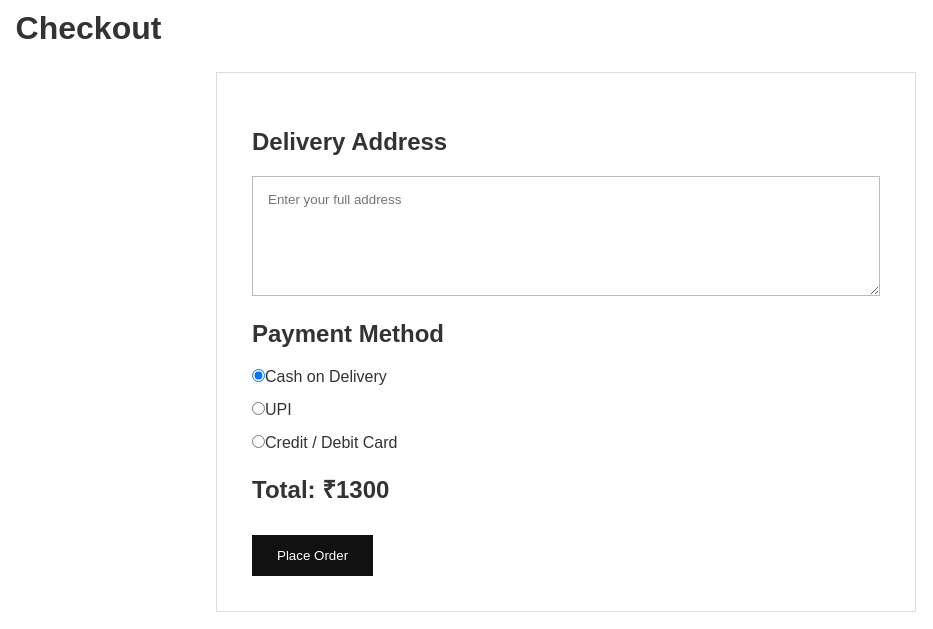
Test: Checkout Component Testing › should select UPI payment method
Click the radio button labelled "UPI" at point(258, 408), box top-left (252, 402), bottom-right (265, 415)
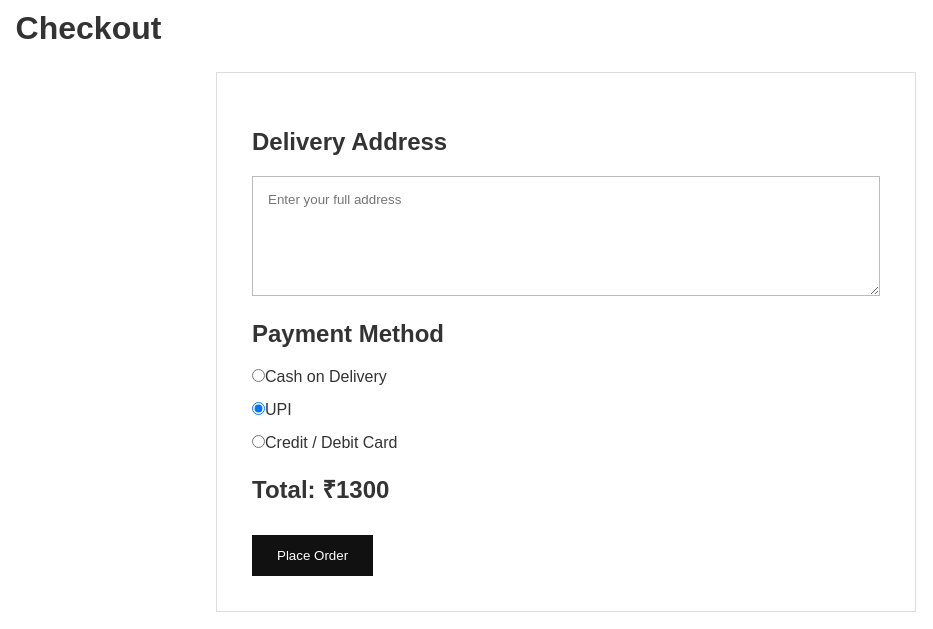
Check: the radio button labelled "UPI" is checked, box top-left (252, 402), bottom-right (265, 415)
